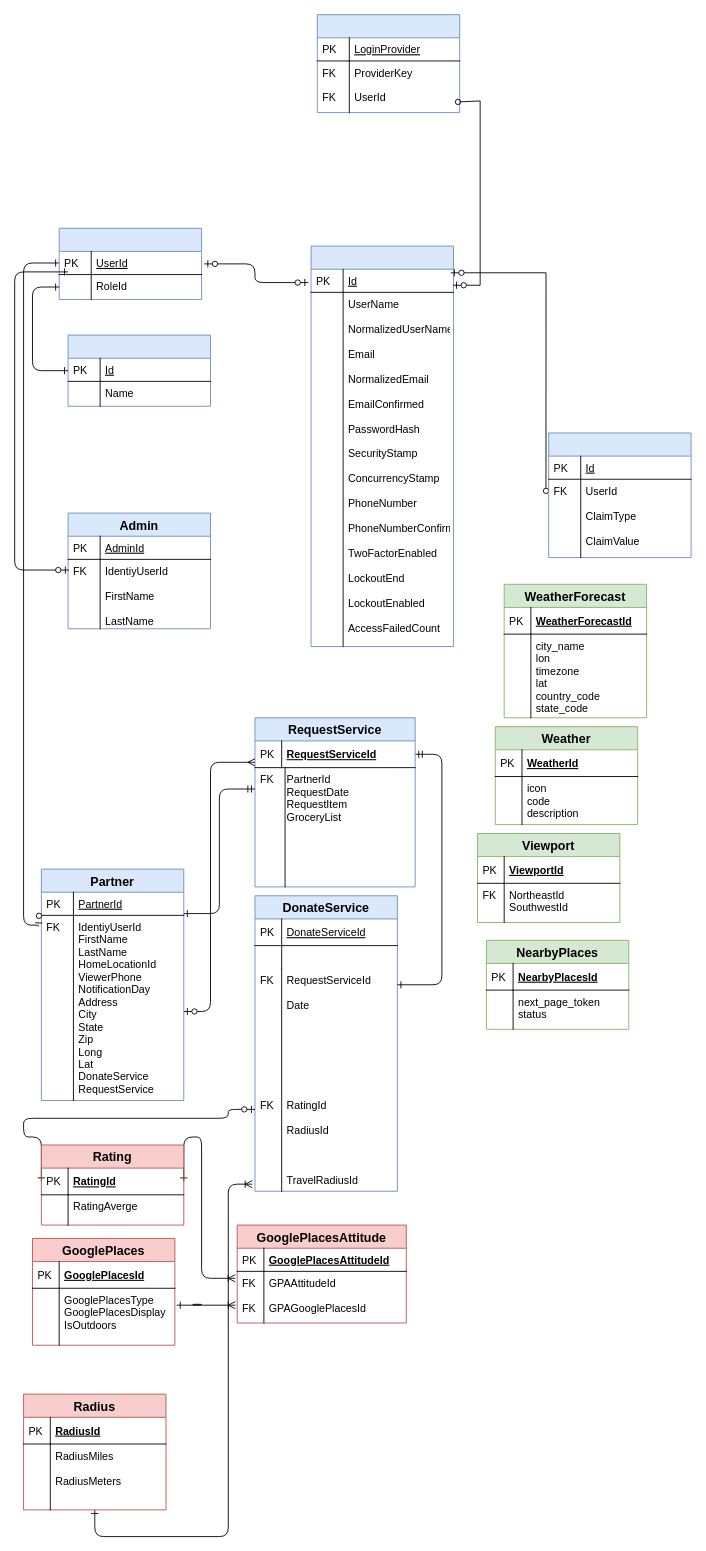
The diagram is 706 pixels wide and 1551 high, and some of its shapes have lost their labels. Each missing label, with the box of its shape:
AspNetRoles: (67, 334, 210, 406)
AspNetUserClaims: (548, 432, 691, 558)
AspNetUserLogins: (316, 14, 460, 113)
AspNetUserRoles: (58, 227, 202, 299)
AspNetUsers: (310, 245, 453, 647)
